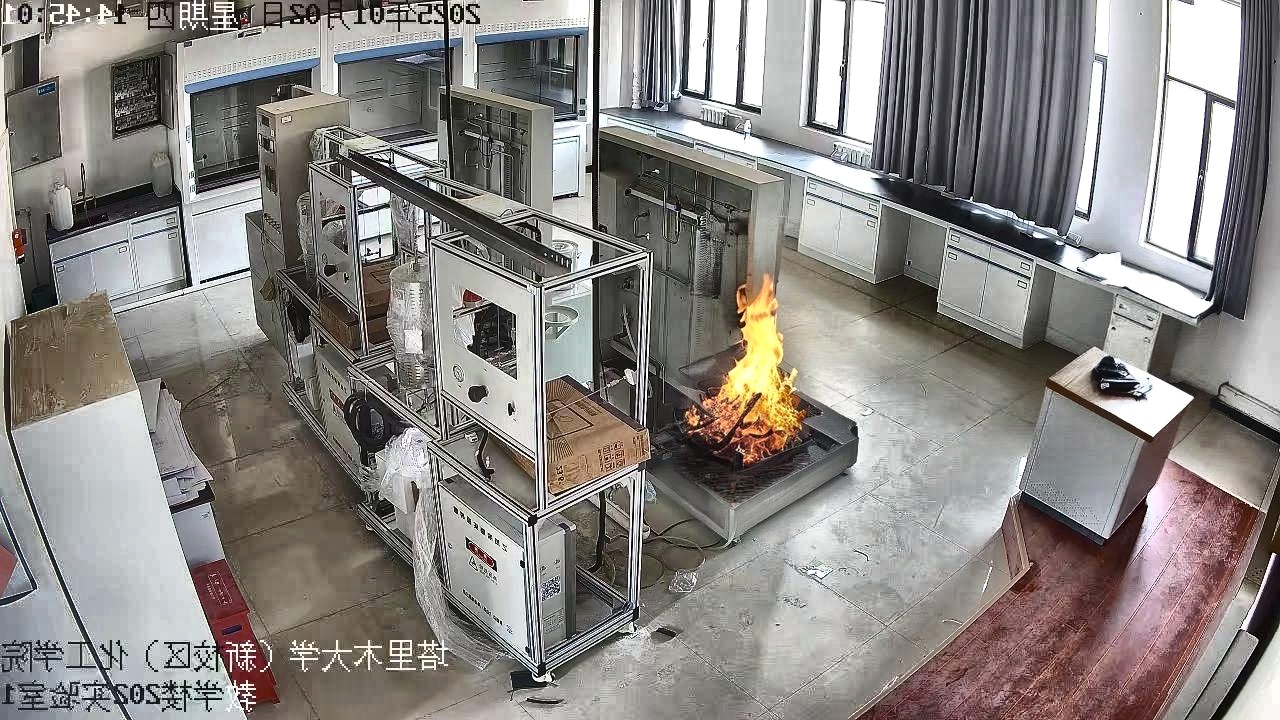fire: (681, 277, 810, 453)
